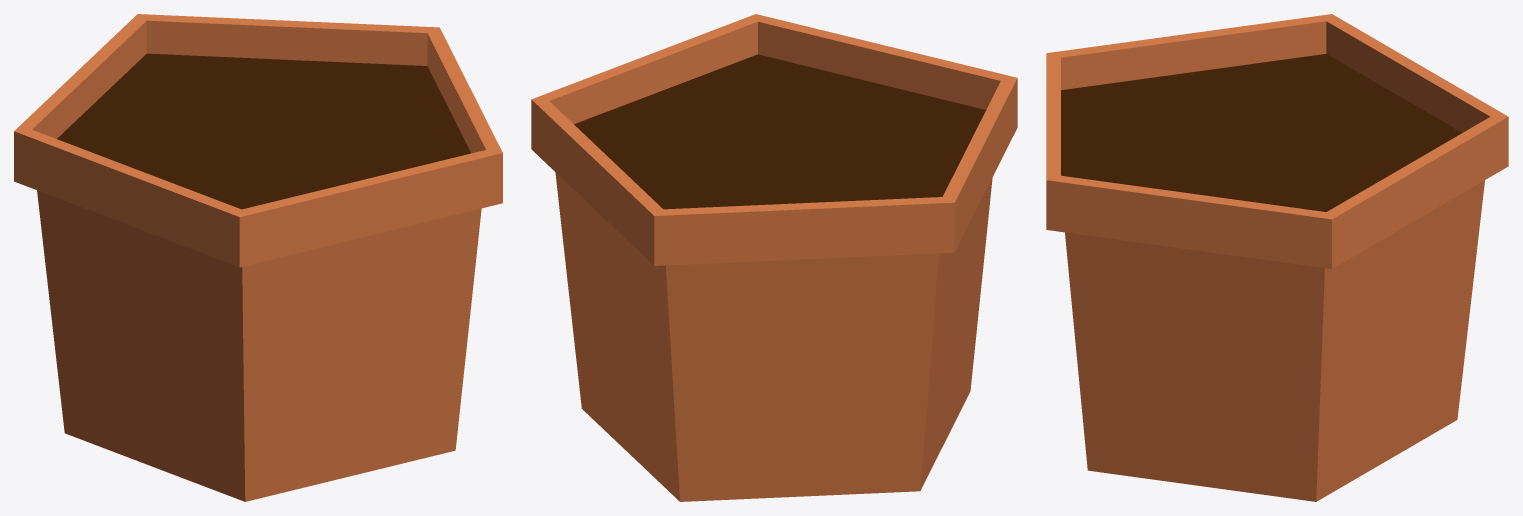
The model's file is pot.fbx.
3 renders of one model, left to right at view 1: azimuth 30°, elevation 25°; view 2: azimuth 150°, elevation 25°; view 3: azimuth 270°, elevation 25°, orthographic.
Visible parts, largest first — view 1: Circle; view 2: Circle; view 3: Circle.
Boxes of the visible parts, box(x1,y1,x2,y2) form: Circle: box(14, 14, 502, 501); Circle: box(531, 14, 1017, 501); Circle: box(1046, 14, 1508, 501).
Size of the model in its own units: 23.81 by 16.38 by 22.65.
